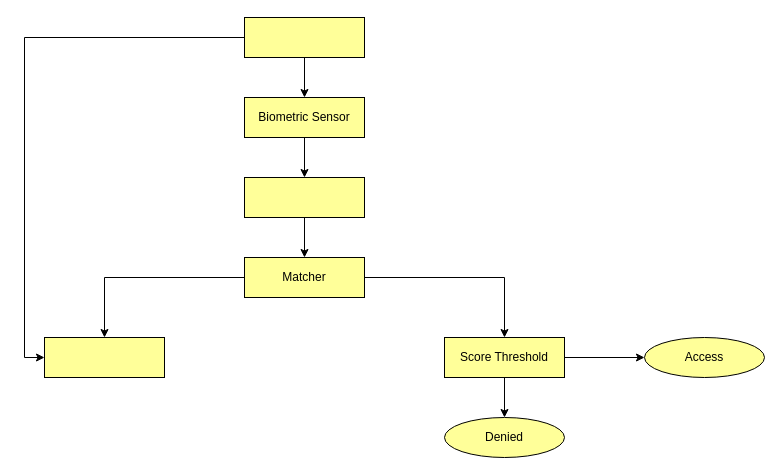
This 782x475 diagram has some shape labels left out. The centre of each missing label's shape, as x and y in pixels:
Feature Extraction: [304,197]
System Database: [104,357]
User Finger Print: [304,37]
